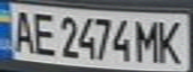2: (54, 12, 78, 60)
4: (109, 16, 136, 63), (75, 14, 96, 61)
7: (90, 15, 115, 61)
A: (6, 7, 36, 54)
E: (30, 9, 60, 57)
K: (154, 16, 190, 65)
M: (136, 17, 163, 64)
